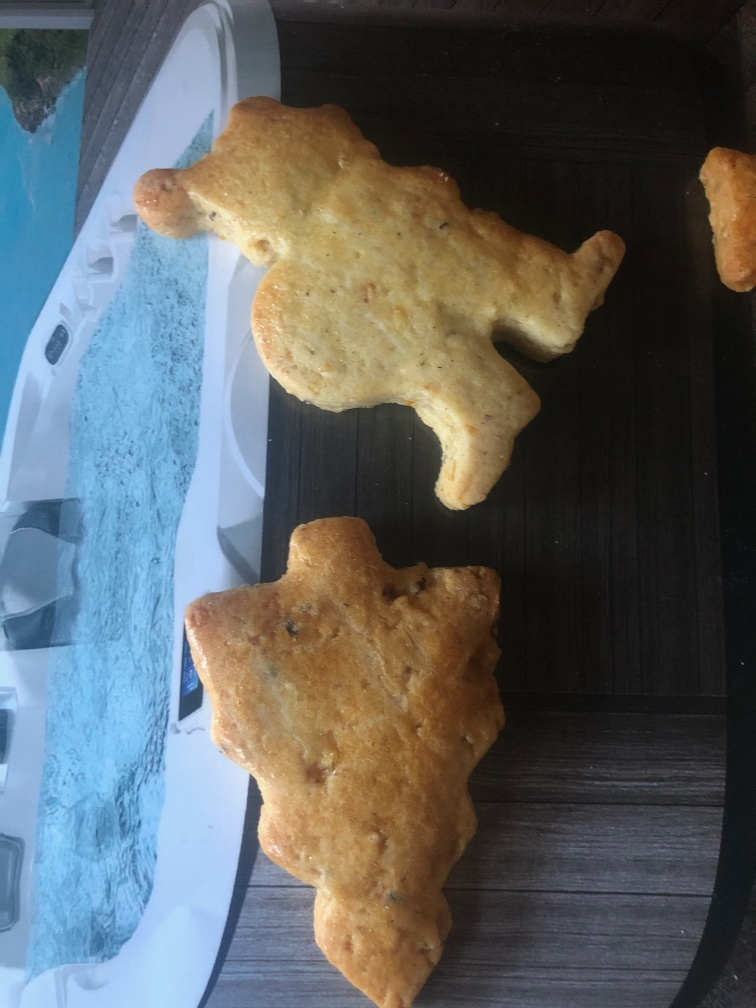christmas tree: (175, 511, 514, 1005)
santa claus: (131, 88, 632, 512)
